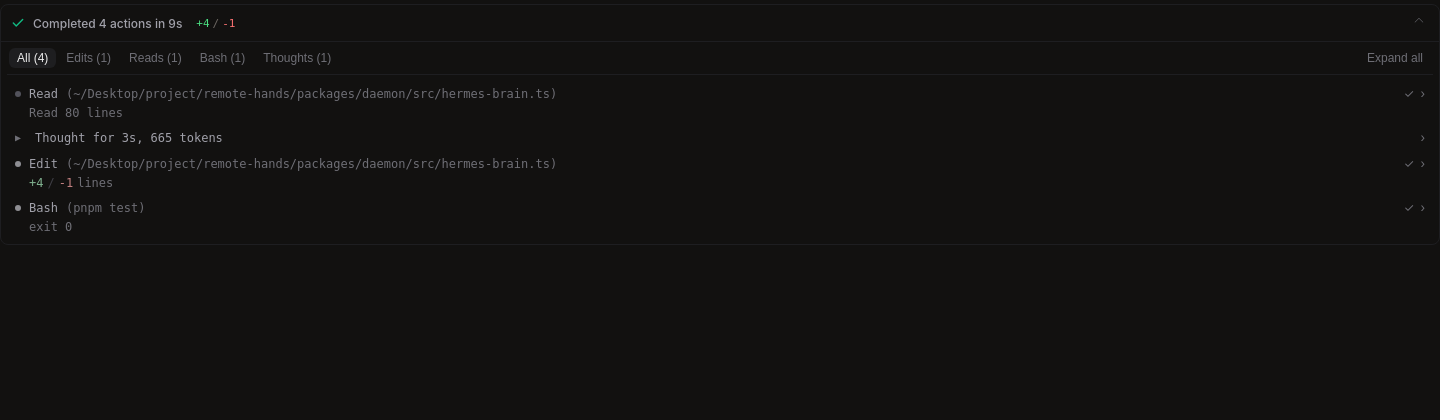
Scenario: StepsDropdown › expands line-by-line diff when edit item is clicked
Expected: the text "initialProjects.push(defaultProject);" is not shown
Click the text "Edit" at (43,164), box 29,156 -> 58,170
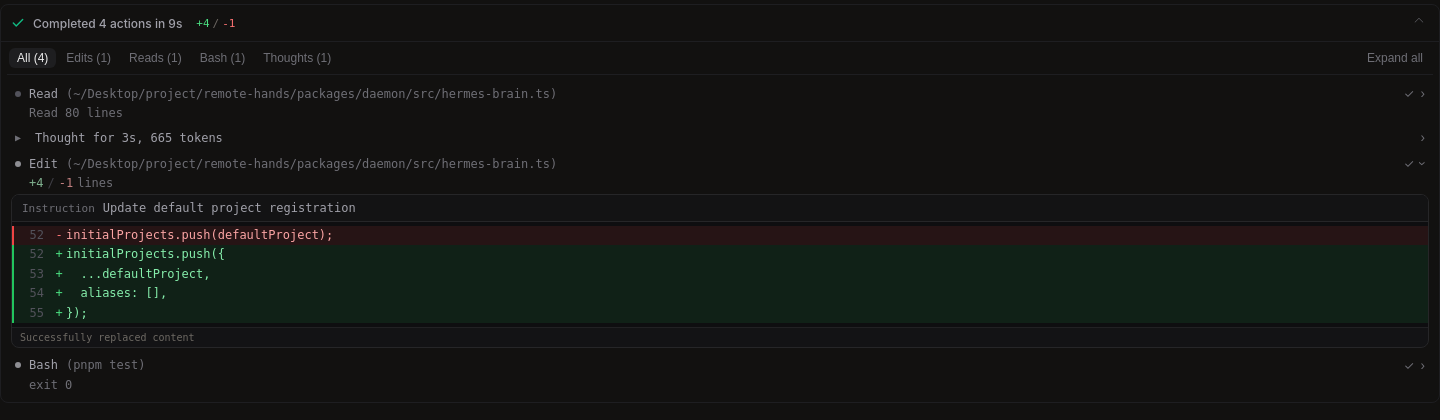
Now the text "initialProjects.push(defaultProject);" is shown, box 66,228 -> 333,242
Now the text "Instruction" is shown, box 22,202 -> 95,214
Now the text "Update default project registration" is shown, box 103,201 -> 356,215
